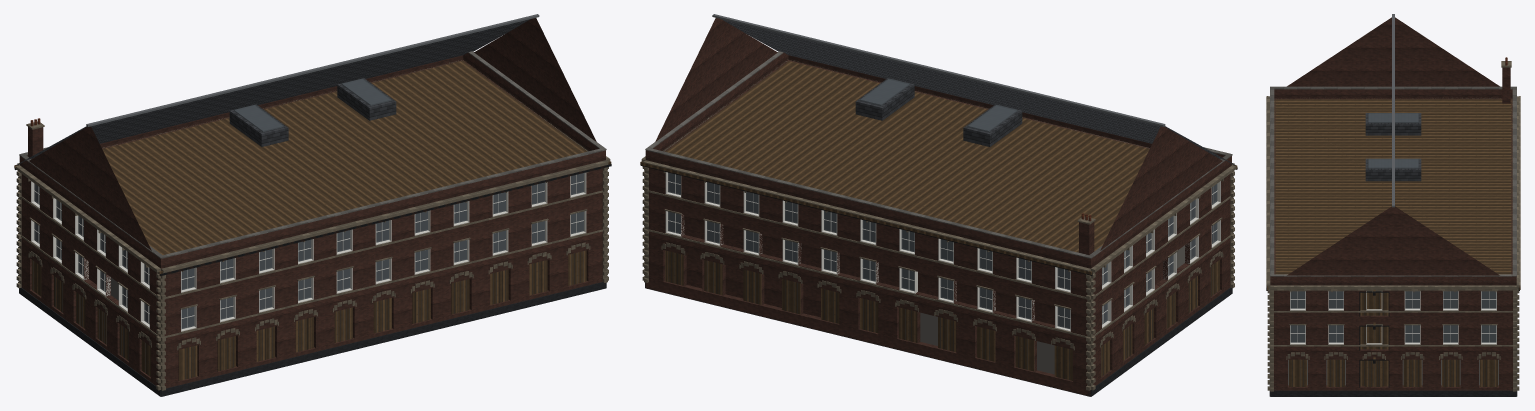
The model's file is A_warehouse_wide.glb.
3 renders of one model, left to right at view 1: azimuth 30°, elevation 25°; view 2: azimuth 150°, elevation 25°; view 3: azimuth 270°, elevation 25°, orthographic. The views are drawn at different scales.
Visible parts, largest first — view 1: A_warehouse_wide; view 2: A_warehouse_wide; view 3: A_warehouse_wide.
Boxes of the visible parts, x1,y1,x2,y2 form: A_warehouse_wide: [14, 14, 611, 396]; A_warehouse_wide: [640, 14, 1237, 396]; A_warehouse_wide: [1266, 14, 1520, 396].
Size of the model in its own units: 41.35 by 18.98 by 22.76.
13 materials, 8 textured.
